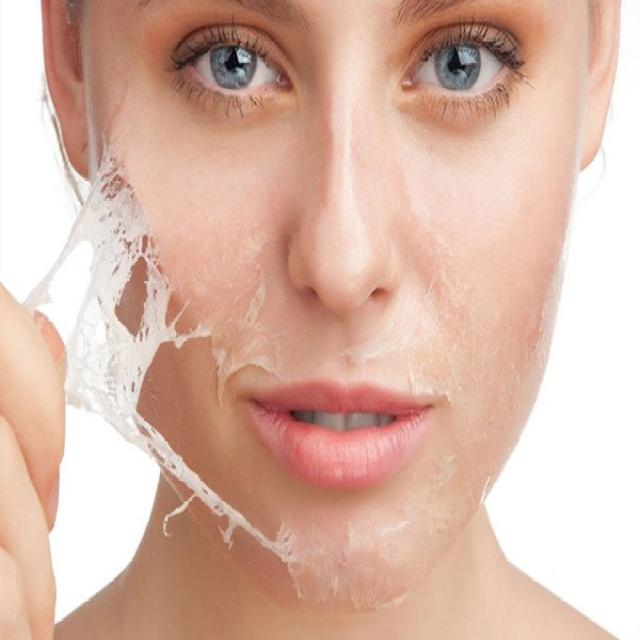Dry-Skin: (56, 118, 280, 398), (150, 424, 398, 610), (347, 312, 468, 397)
